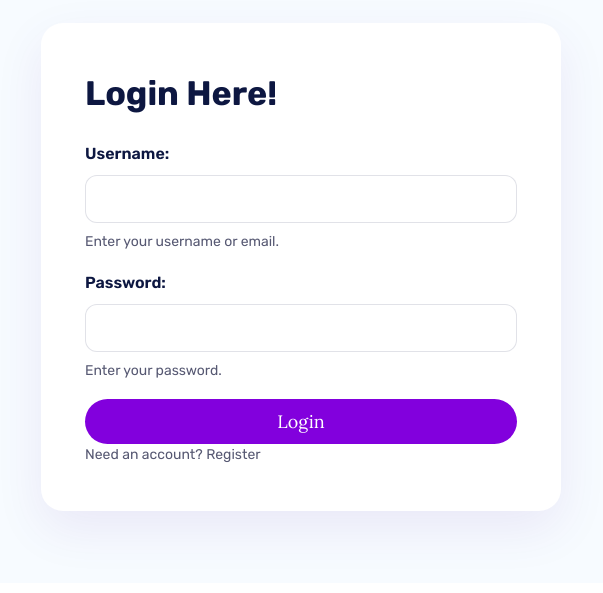
Test case: LoginPage › renders an error message when login fails
Step 1. Type "ada" into the field labelled "Username:" → (301, 199), box [85,175,517,223]
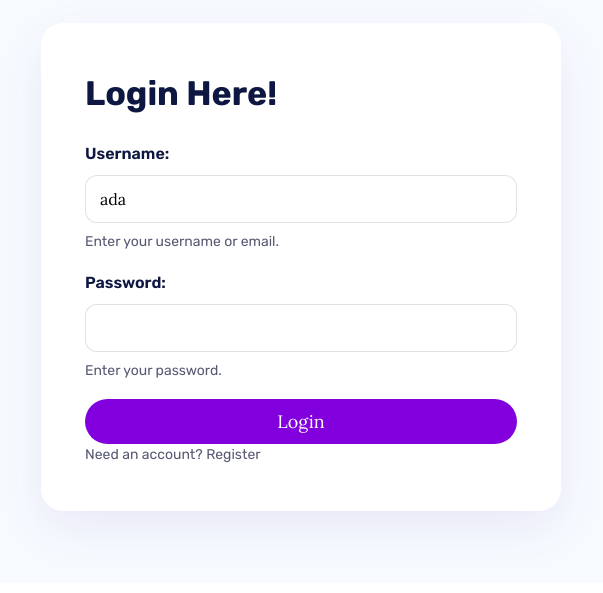
Step 2. Type "wrong-password" into the password field labelled "Password:" → (301, 328), box [85,304,517,352]
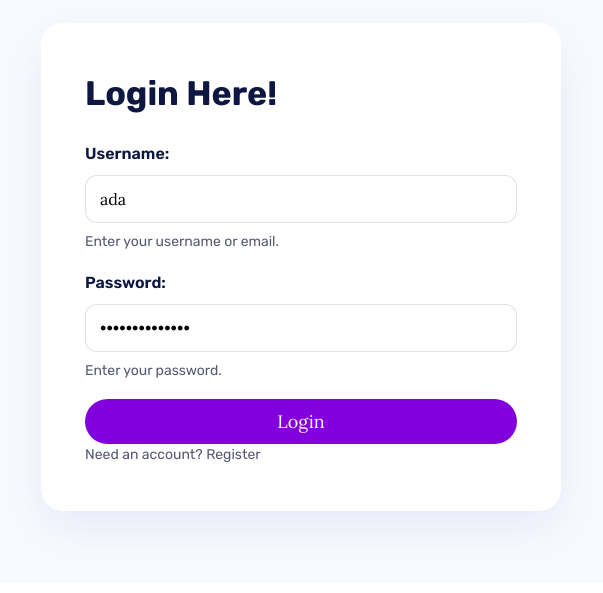
Step 3. Click the button "Login" → (301, 422), box [85,399,517,444]
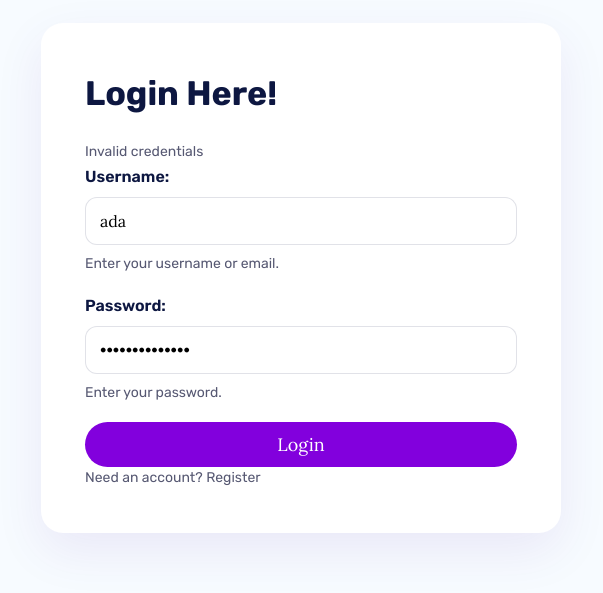
Expected: the message reads "Invalid credentials", [85,143,203,160]
